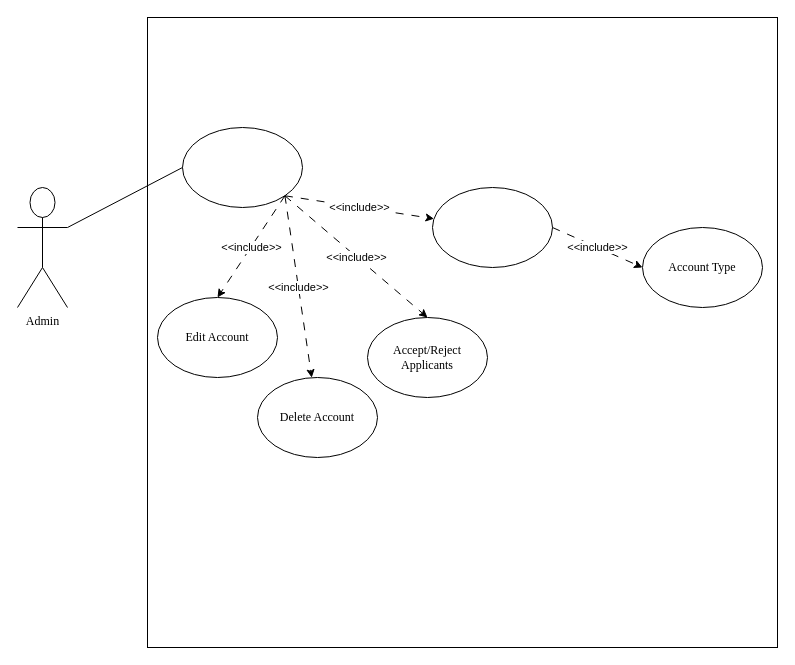
Image size: 795x665. Some labels were removed from this diagram. The centre of each missing label's shape, as x and y in pixels:
Create Account: point (492, 227)
Manage Account: point (242, 167)
